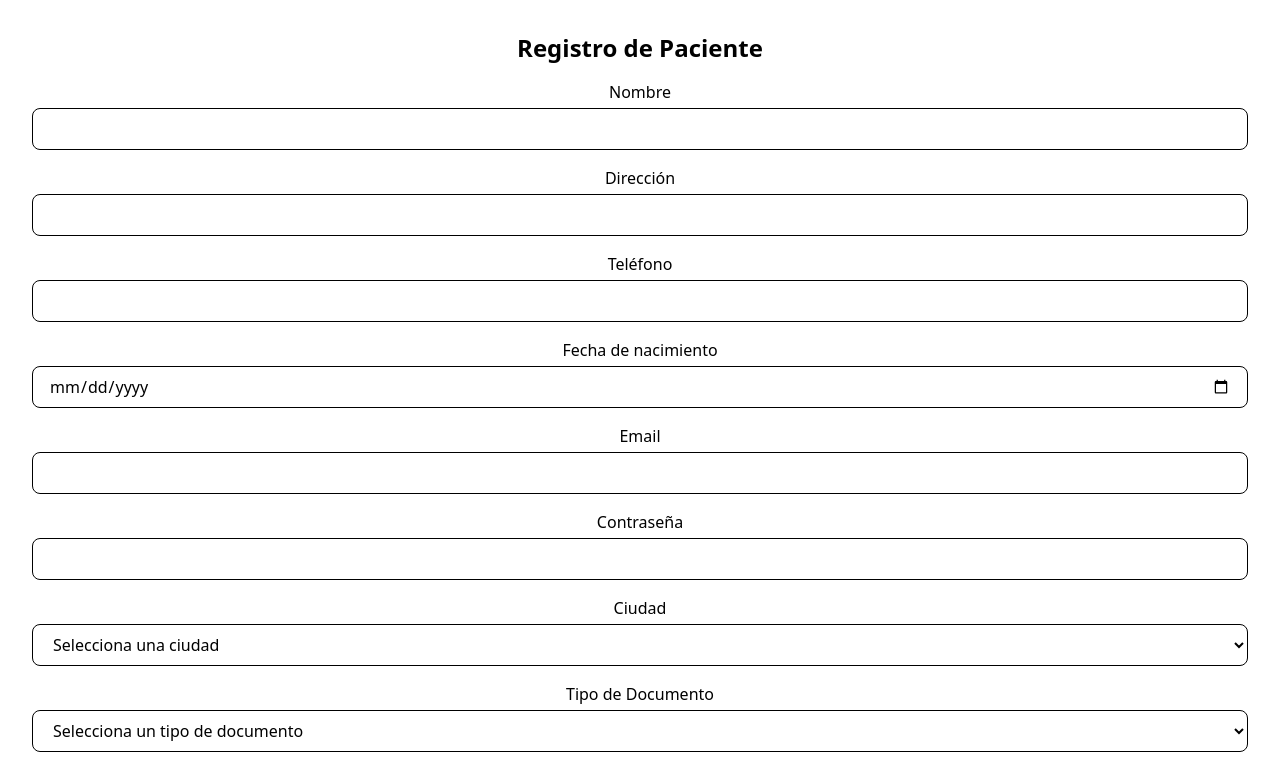
Scenario: RegistroForm › oculta feedback si el teléfono tiene 10 o más dígitos y feedbackTel es true
# Simula que feedbackTel es true
Type "123" into the number field labelled "Teléfono" at (640, 301), box [32, 280, 1248, 322]
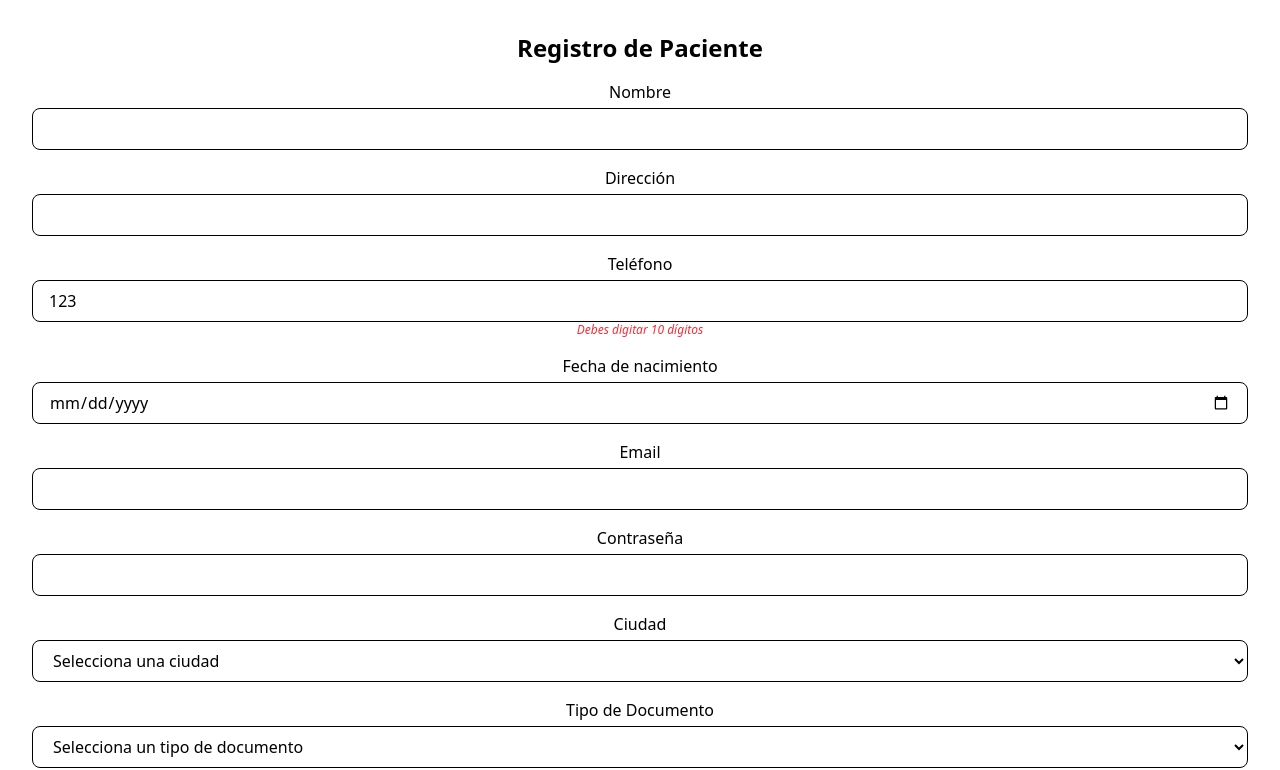
# Ingresa un teléfono con exactamente 10 dígitos
Replace the text in the number field labelled "Teléfono" with "1234567890" at (640, 301), box [32, 280, 1248, 322]
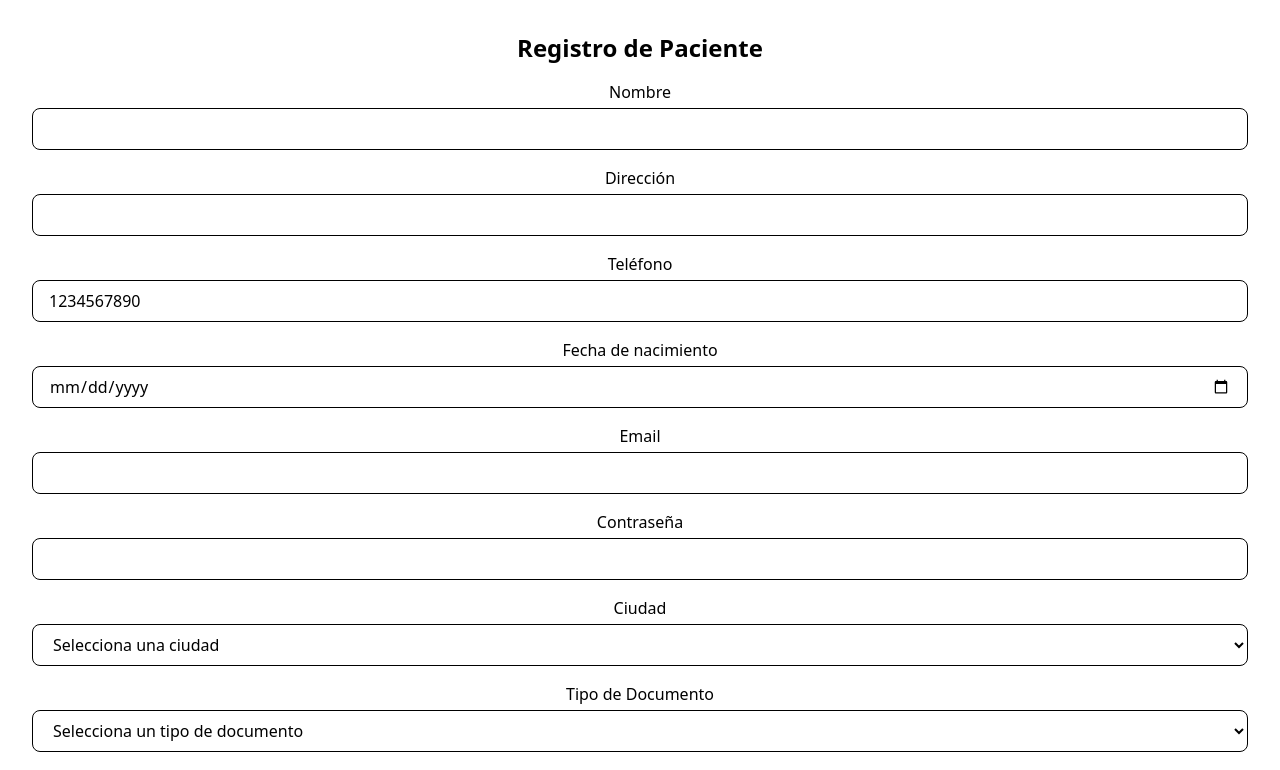
Now the text "Debes digitar 10 dígitos" is gone
